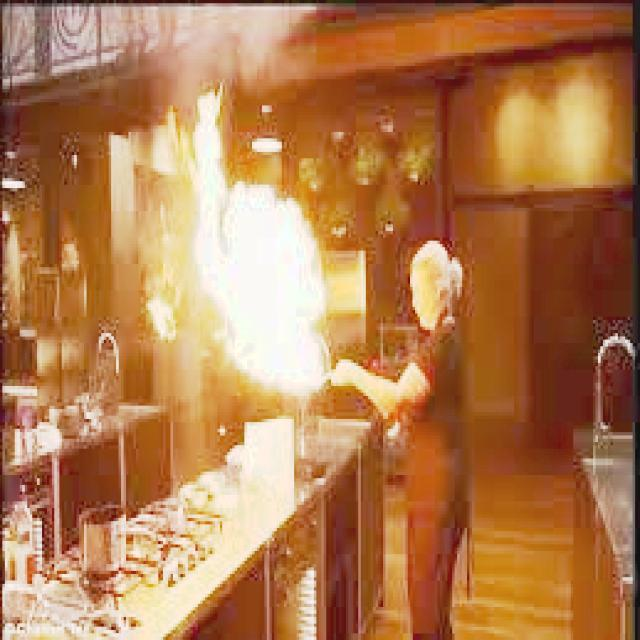api: (162, 93, 379, 397)
